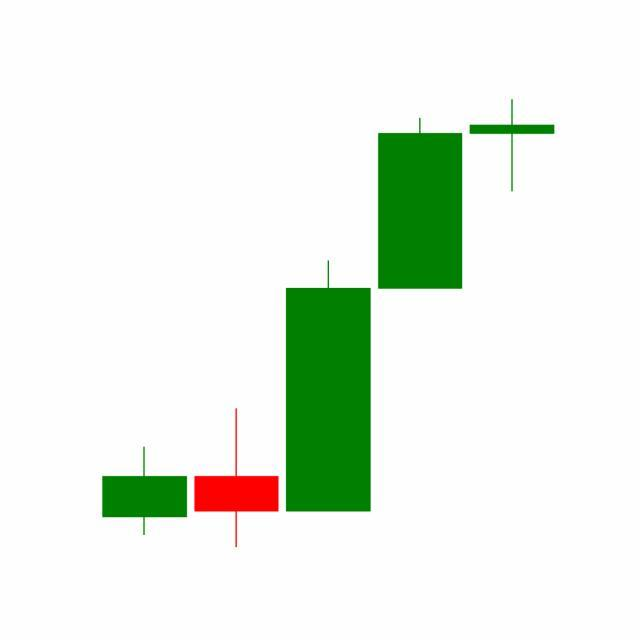Spinning Top: (466, 98, 559, 194)
